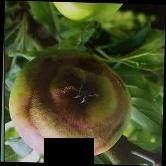rotten apple: (6, 49, 134, 160)
